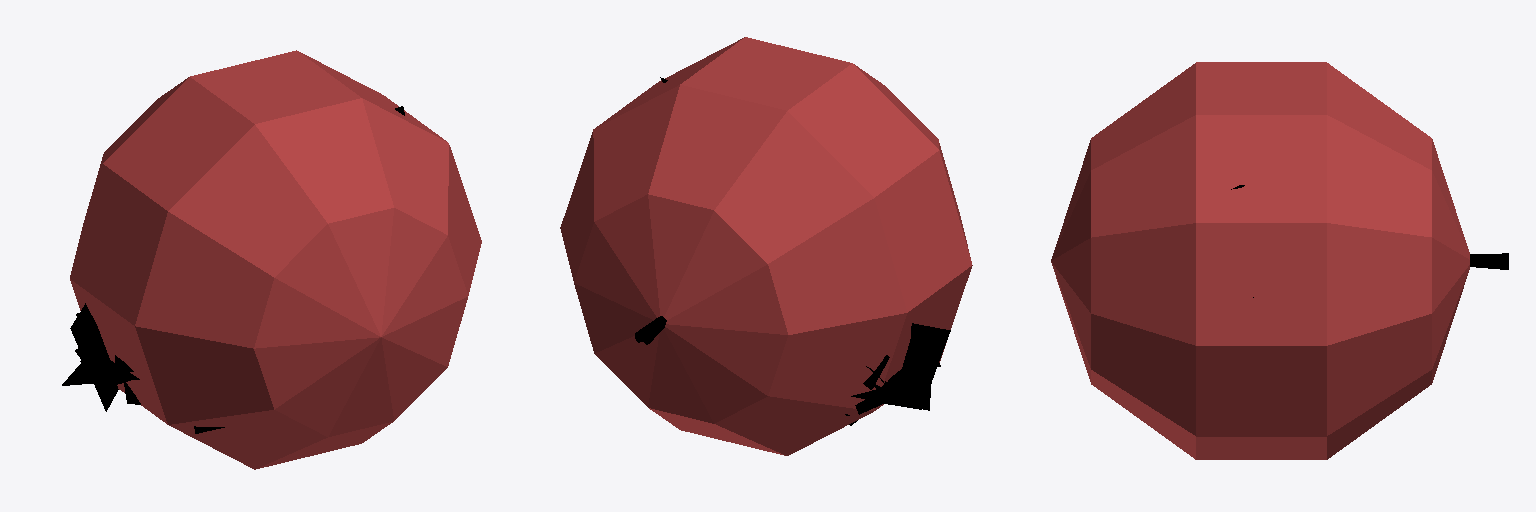
Rendered from AmericanMoutainAsh.obj.
3 renders of one model, left to right at view 1: azimuth 30°, elevation 25°; view 2: azimuth 150°, elevation 25°; view 3: azimuth 270°, elevation 25°, orthographic.
Visible parts, largest first — view 1: AmericanMountainAshTree_group AmericanMountainAsh_helper cryExpo; view 2: AmericanMountainAshTree_group AmericanMountainAsh_helper cryExpo; view 3: AmericanMountainAshTree_group AmericanMountainAsh_helper cryExpo.
Part boxes in pixels (x1,y1,x2,y2): AmericanMountainAshTree_group AmericanMountainAsh_helper cryExpo: (62, 50, 481, 469); AmericanMountainAshTree_group AmericanMountainAsh_helper cryExpo: (560, 37, 972, 455); AmericanMountainAshTree_group AmericanMountainAsh_helper cryExpo: (1051, 62, 1508, 459).
Size of the model in its own units: 1212 by 1085 by 1305.